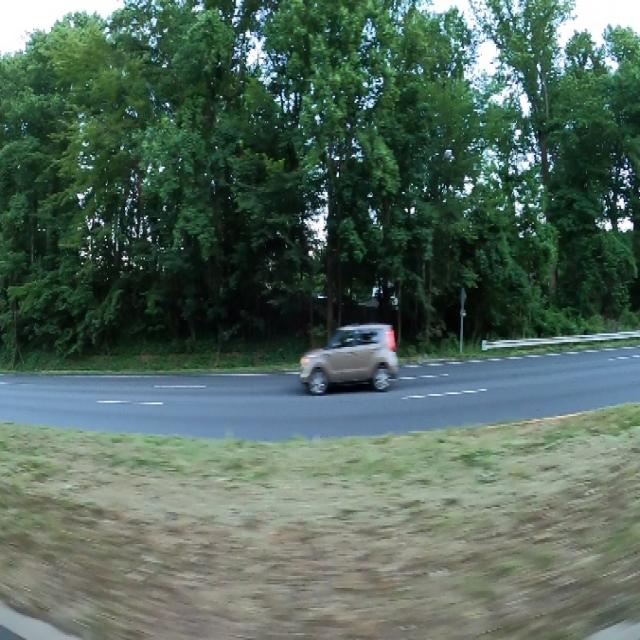car: (289, 313, 405, 399)
